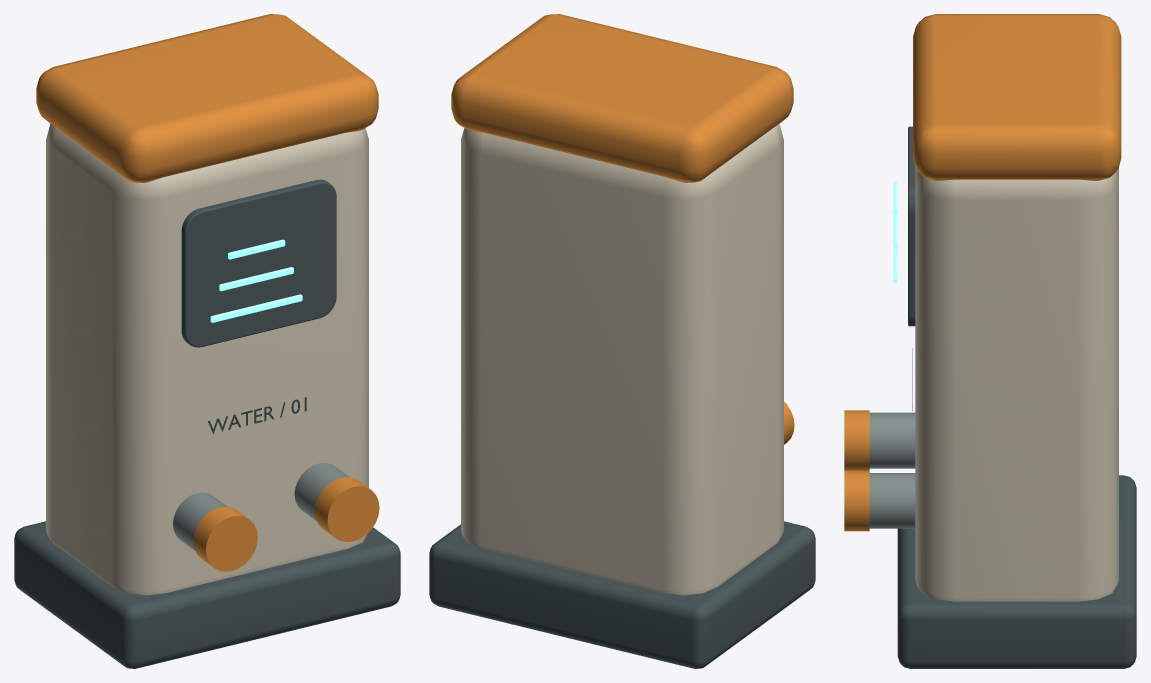
Rendered from garden-irrigation-unit.glb.
3 views of the same model, side by side, from view 1: azimuth 30°, elevation 25°; view 2: azimuth 150°, elevation 25°; view 3: azimuth 270°, elevation 25° (orthographic).
Visible parts, largest first — view 1: garden-irrigation-unit / 01 • warm porcelain paint, garden-irrigation-unit / 06 • dark anodized frame, garden-irrigation-unit / 03 • ochre enamel, garden-irrigation-unit / 05 • brushed titanium, garden-irrigation-unit / 08 • cyan indicator, garden-irrigation-unit / 11 • dark graphic; view 2: garden-irrigation-unit / 01 • warm porcelain paint, garden-irrigation-unit / 03 • ochre enamel, garden-irrigation-unit / 06 • dark anodized frame; view 3: garden-irrigation-unit / 01 • warm porcelain paint, garden-irrigation-unit / 03 • ochre enamel, garden-irrigation-unit / 06 • dark anodized frame, garden-irrigation-unit / 05 • brushed titanium, garden-irrigation-unit / 08 • cyan indicator.
Boxes of the visible parts, x1,y1,x2,y2 form: garden-irrigation-unit / 01 • warm porcelain paint: (46, 124, 368, 595); garden-irrigation-unit / 06 • dark anodized frame: (14, 179, 400, 668); garden-irrigation-unit / 03 • ochre enamel: (36, 14, 379, 571); garden-irrigation-unit / 05 • brushed titanium: (173, 463, 349, 550); garden-irrigation-unit / 08 • cyan indicator: (210, 239, 302, 322); garden-irrigation-unit / 11 • dark graphic: (208, 397, 306, 433); garden-irrigation-unit / 01 • warm porcelain paint: (461, 124, 783, 595); garden-irrigation-unit / 03 • ochre enamel: (451, 14, 794, 444); garden-irrigation-unit / 06 • dark anodized frame: (429, 521, 815, 668); garden-irrigation-unit / 01 • warm porcelain paint: (915, 167, 1118, 601); garden-irrigation-unit / 03 • ochre enamel: (844, 14, 1121, 531); garden-irrigation-unit / 06 • dark anodized frame: (897, 126, 1136, 668); garden-irrigation-unit / 05 • brushed titanium: (869, 412, 915, 528); garden-irrigation-unit / 08 • cyan indicator: (893, 181, 897, 283).
Size of the model in its own units: 0.64 by 1.16 by 0.575.
